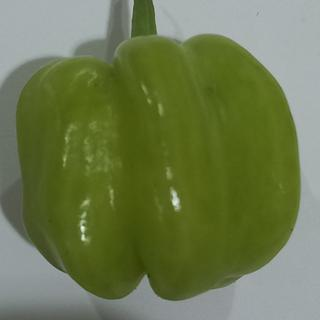Grade-B: (10, 30, 305, 302)
